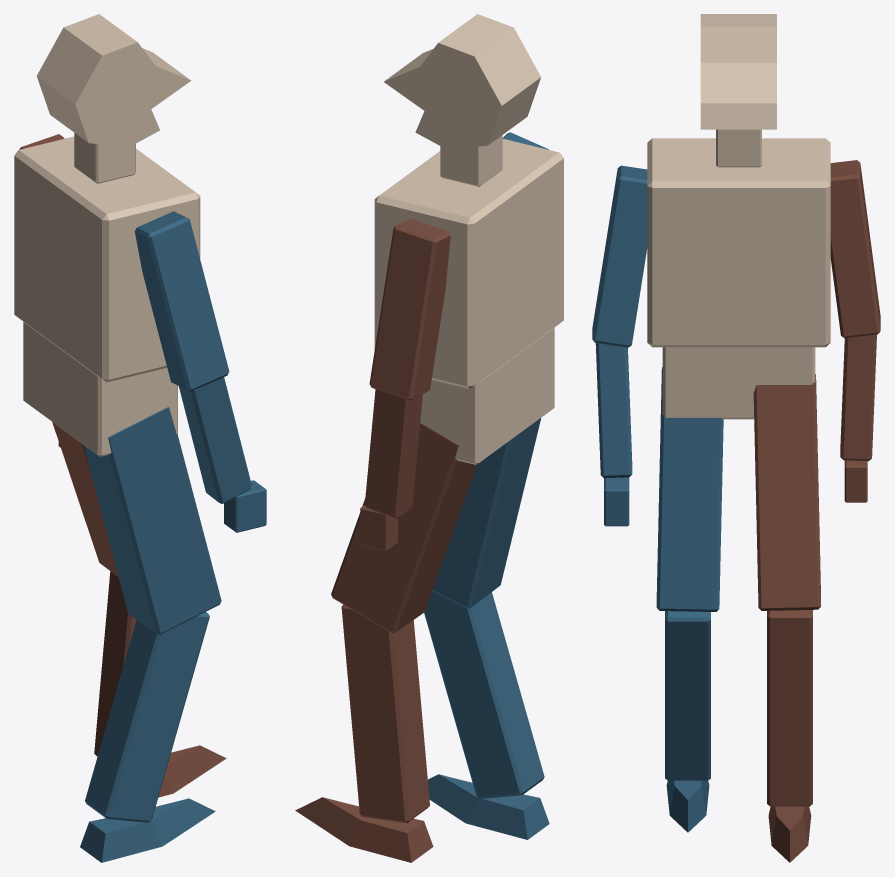
Rendered from protagonista_base.glb.
3 views of the same model, side by side, from view 1: azimuth 30°, elevation 25°; view 2: azimuth 150°, elevation 25°; view 3: azimuth 270°, elevation 25° (orthographic). The views are drawn at different scales.
Visible parts, largest first — view 1: Torax, CoxaDireita, PernaDireita, Cabeca, BracoDireito, Pelve, AntebracoDireito, PeDireito, PernaEsquerda, CoxaEsquerda, Pescoco, PeEsquerdo (+1 smaller); view 2: Torax, PernaDireita, PernaEsquerda, Cabeca, CoxaEsquerda, BracoEsquerdo, Pelve, CoxaDireita, AntebracoEsquerdo, PeEsquerdo, PeDireito, Pescoco (+1 smaller); view 3: Torax, CoxaEsquerda, CoxaDireita, PernaEsquerda, Pelve, Cabeca, PernaDireita, BracoDireito, BracoEsquerdo, AntebracoDireito, AntebracoEsquerdo, PeEsquerdo (+4 smaller).
Boxes of the visible parts, x1,y1,x2,y2 form: Torax: [14, 136, 200, 382]; CoxaDireita: [83, 407, 221, 634]; PernaDireita: [85, 612, 209, 822]; Cabeca: [37, 14, 191, 147]; BracoDireito: [134, 211, 229, 391]; Pelve: [23, 321, 177, 456]; AntebracoDireito: [178, 377, 251, 503]; PeDireito: [80, 798, 215, 862]; PernaEsquerda: [94, 571, 136, 756]; CoxaEsquerda: [52, 422, 118, 576]; Pescoco: [74, 133, 135, 183]; PeEsquerdo: [158, 745, 226, 797]; Torax: [374, 138, 563, 388]; PernaDireita: [424, 591, 544, 798]; PernaEsquerda: [341, 604, 429, 823]; Cabeca: [384, 14, 540, 149]; CoxaEsquerda: [331, 422, 476, 633]; BracoEsquerdo: [369, 218, 450, 400]; Pelve: [420, 327, 554, 464]; CoxaDireita: [432, 418, 541, 608]; AntebracoEsquerdo: [364, 389, 422, 518]; PeEsquerdo: [295, 797, 433, 862]; PeDireito: [428, 774, 549, 839]; Pescoco: [440, 135, 502, 186]; Torax: [647, 138, 830, 347]; CoxaEsquerda: [753, 374, 820, 610]; CoxaDireita: [656, 367, 723, 611]; PernaEsquerda: [767, 610, 812, 806]; Pelve: [662, 347, 815, 419]; Cabeca: [700, 14, 776, 129]; PernaDireita: [665, 611, 710, 780]; BracoDireito: [592, 165, 647, 347]; BracoEsquerdo: [830, 160, 880, 338]; AntebracoDireito: [595, 343, 632, 478]; AntebracoEsquerdo: [840, 334, 876, 461]; PeEsquerdo: [768, 806, 811, 862].
Size of the model in its own units: 0.44 by 1.7 by 0.5663.
